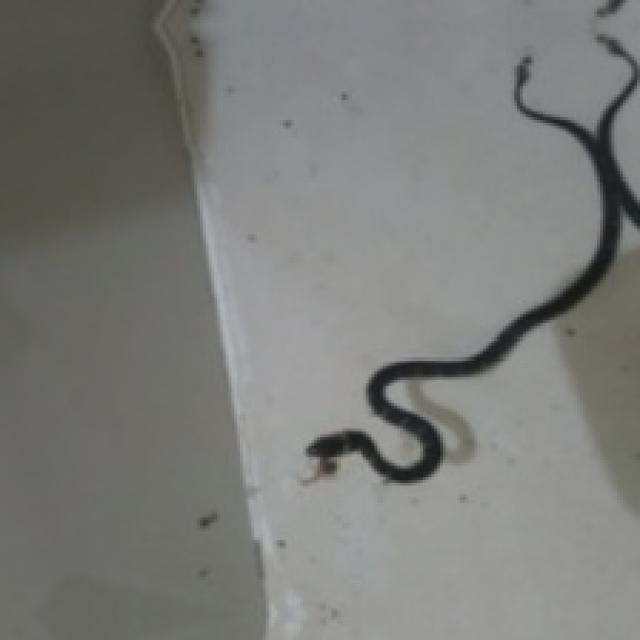gunthers philippine shrub snake: (306, 29, 637, 480)
